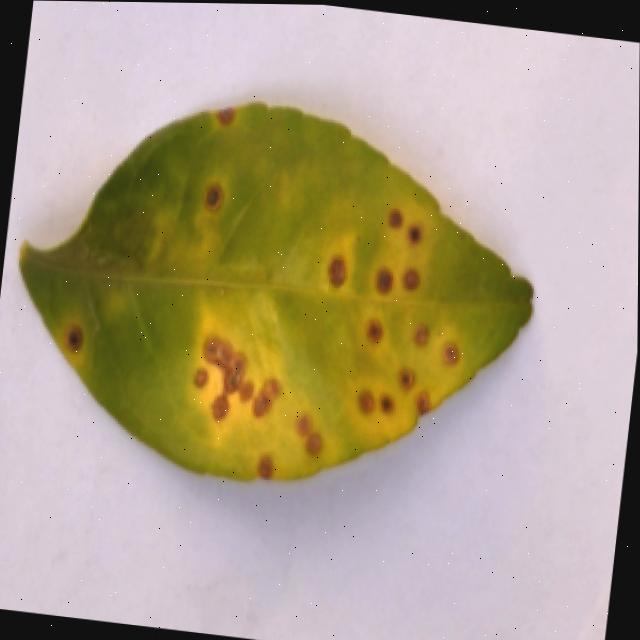canker: (22, 105, 529, 479), (183, 339, 343, 484), (35, 305, 107, 370), (180, 178, 236, 224), (328, 258, 347, 287), (375, 269, 394, 294), (357, 391, 375, 415), (401, 270, 420, 291), (412, 324, 429, 347), (367, 319, 383, 342), (441, 343, 457, 364), (407, 226, 422, 243), (400, 370, 414, 387), (381, 396, 393, 414), (388, 210, 400, 228), (415, 391, 424, 414)
